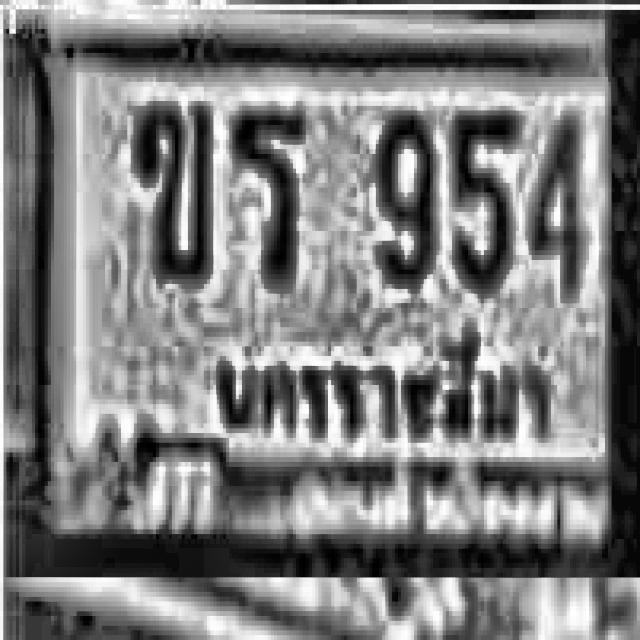license-plate: (48, 32, 620, 562)
